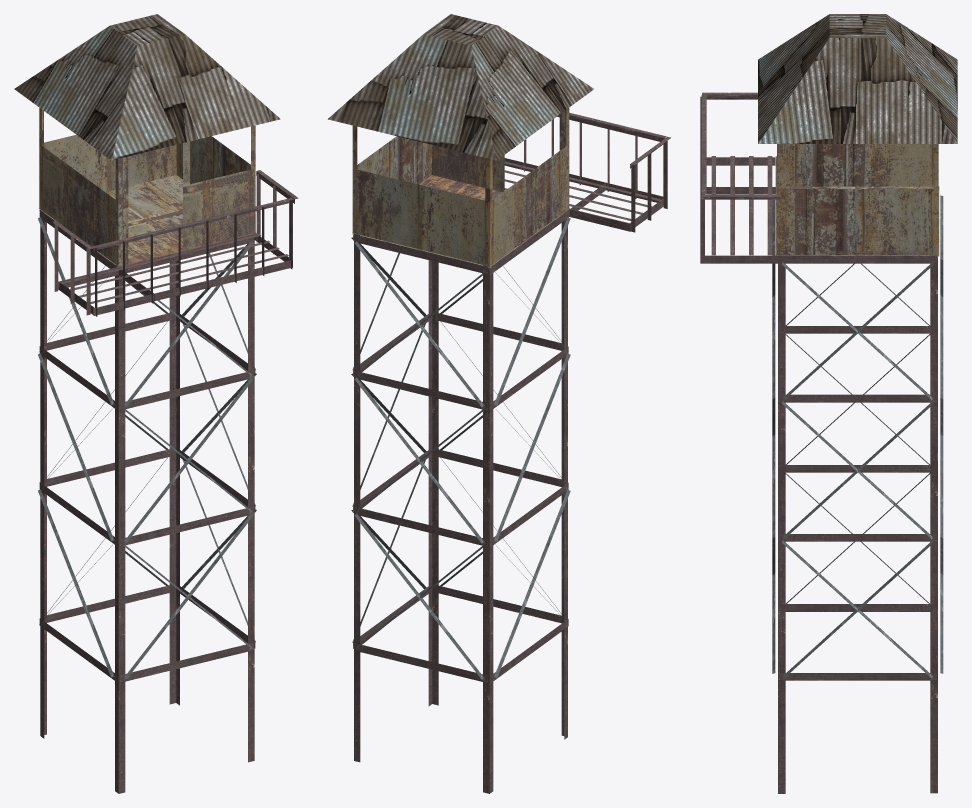
The model's file is GuardTower1_LOD2.fbx.
3 views of the same model, side by side, from view 1: azimuth 30°, elevation 25°; view 2: azimuth 150°, elevation 25°; view 3: azimuth 270°, elevation 25° (orthographic). The views are drawn at different scales.
Parts seen in each view (by area): view 1: polySurface299; view 2: polySurface299; view 3: polySurface299.
Boxes of the visible parts, <box> form: polySurface299: <box>14,14,298,793</box>; polySurface299: <box>328,14,670,793</box>; polySurface299: <box>700,14,957,793</box>.
Size of the model in its own units: 4.84 by 15.18 by 4.82.
Materials: 3 (3 with a texture image).
